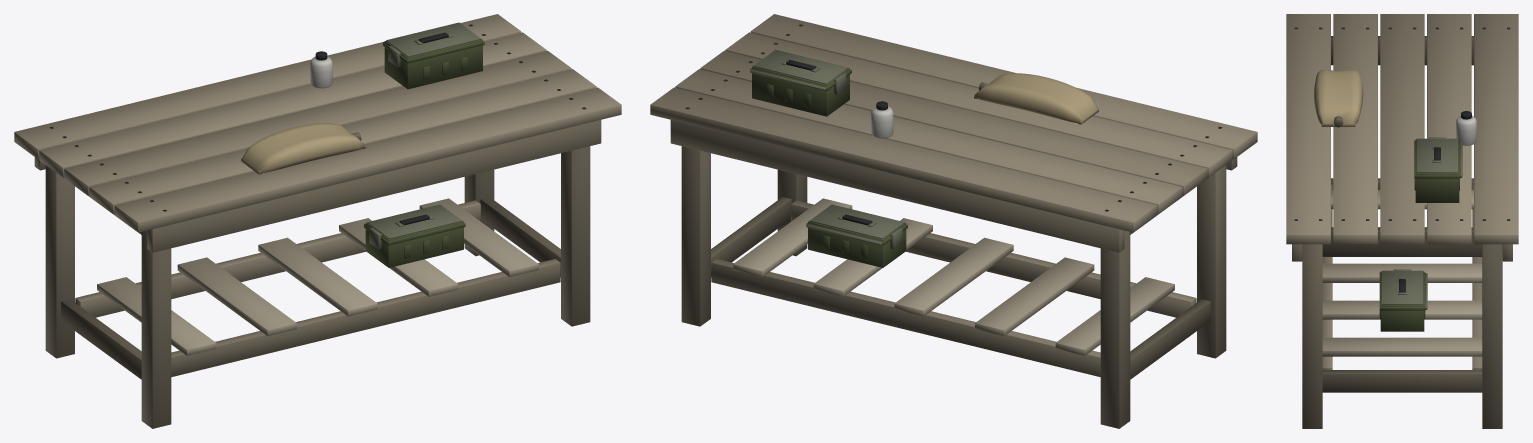
The model's file is shooting_bench.glb.
The picture shows the model from 3 angles, left to right: view 1: azimuth 30°, elevation 25°; view 2: azimuth 150°, elevation 25°; view 3: azimuth 270°, elevation 25°; orthographic projection. The views are drawn at different scales.
Parts seen in each view (by area): view 1: ShootingBench; view 2: ShootingBench; view 3: ShootingBench.
Boxes of the visible parts, x1,y1,x2,y2 form: ShootingBench: (14, 14, 621, 428); ShootingBench: (650, 14, 1257, 428); ShootingBench: (1286, 14, 1518, 428).
Bounding box in the file's own units: 1.8 × 0.9 × 0.8.
